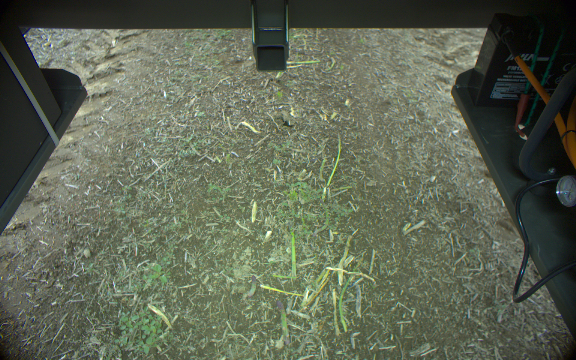aspa: (336, 272, 359, 331), (322, 132, 344, 189), (274, 296, 291, 343), (285, 227, 299, 278), (246, 275, 260, 299)
